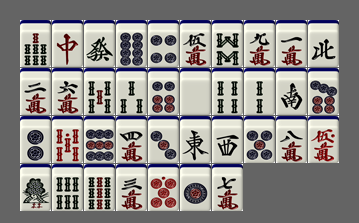0m: (308, 116, 339, 163)
0p: (148, 164, 179, 211)
0s: (52, 116, 83, 163)
1m: (276, 20, 307, 67)
1p: (180, 164, 211, 211)
1s: (20, 164, 51, 211)
1z: (180, 116, 211, 163)
2m: (20, 68, 51, 115)
2p: (20, 116, 51, 163)
2s: (244, 68, 275, 115)
2z: (276, 68, 307, 115)
3m: (116, 164, 147, 211)
3p: (148, 116, 179, 163)
3s: (116, 68, 147, 115)
3z: (212, 116, 243, 163)
4m: (116, 116, 147, 163)
4p: (148, 20, 179, 67)
4s: (212, 68, 243, 115)
4z: (308, 20, 339, 67)
5m: (180, 20, 211, 67)
5p: (244, 116, 275, 163)
5s: (84, 68, 115, 115)
5z: (180, 68, 211, 115)
6m: (52, 68, 83, 115)
6p: (148, 68, 179, 115)
6s: (52, 164, 83, 211)
6z: (84, 20, 115, 67)
7m: (212, 164, 243, 211)
7p: (308, 68, 339, 115)
7s: (20, 20, 51, 67)
7z: (52, 20, 83, 67)
8m: (276, 116, 307, 163)
8p: (116, 20, 147, 67)
8s: (212, 20, 243, 67)
9m: (244, 20, 275, 67)
9p: (84, 116, 115, 163)
9s: (84, 164, 115, 211)
